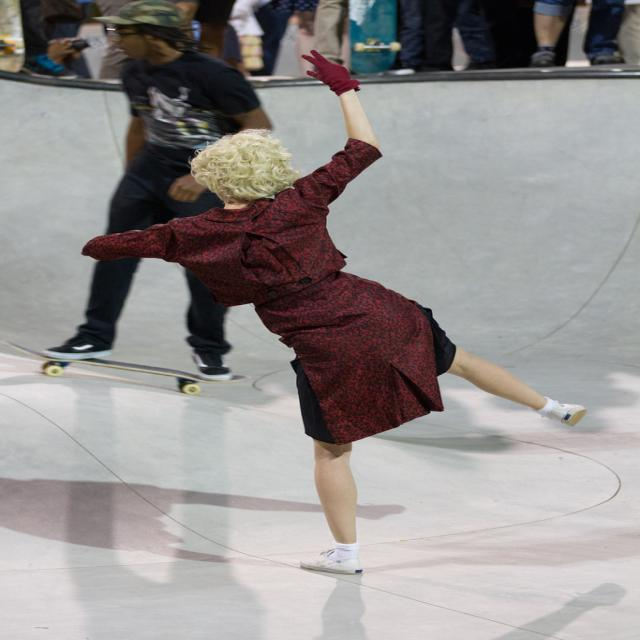Person: (42, 0, 275, 382), (0, 0, 640, 81)
